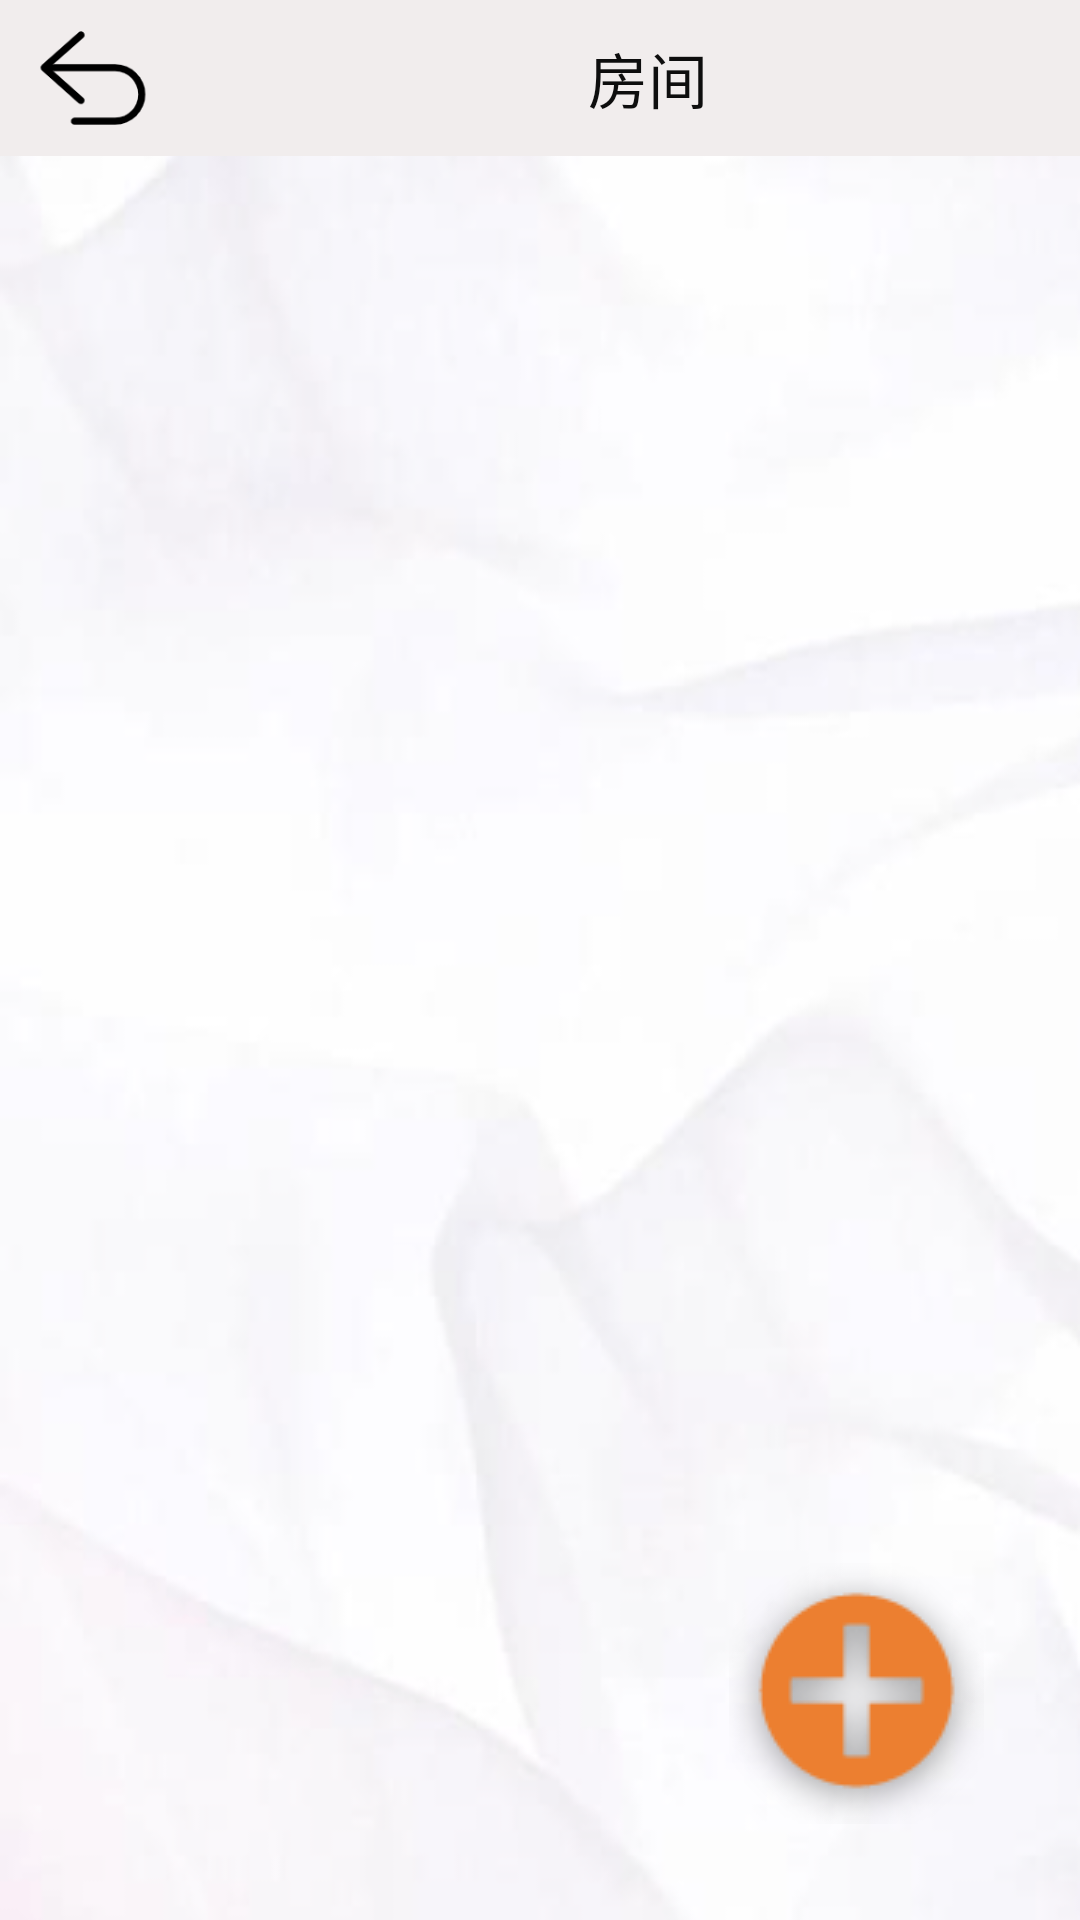

Locate icon controls on the screen. Image size 1080w x 1920h, boxes as (x1, y1, x2, y2).
back: (40, 31, 146, 125)
